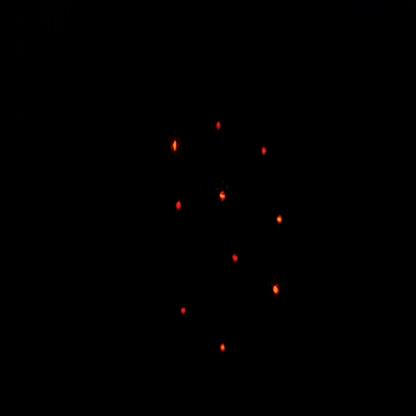PET: (162, 181, 199, 233), (221, 232, 254, 284), (171, 284, 201, 336), (253, 123, 280, 176), (204, 107, 233, 150)
PVC: (164, 128, 188, 173), (264, 268, 289, 311), (211, 178, 236, 220), (213, 334, 236, 374), (272, 201, 292, 242)
